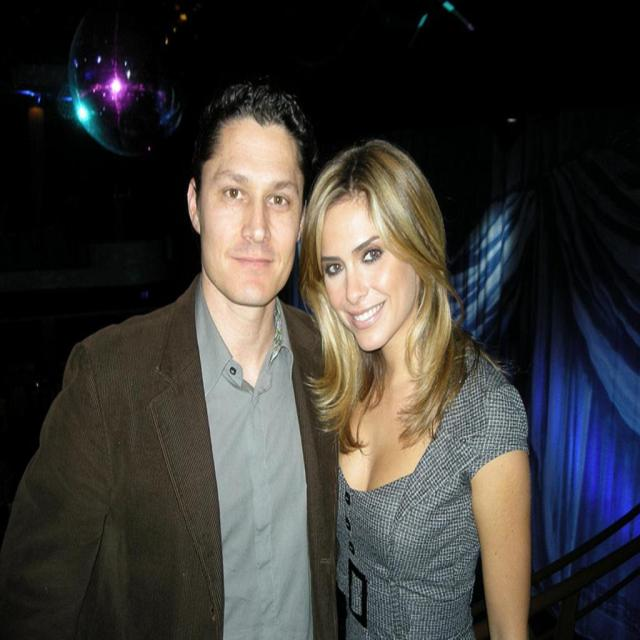Face: (297, 175, 424, 341), (197, 132, 309, 309)
